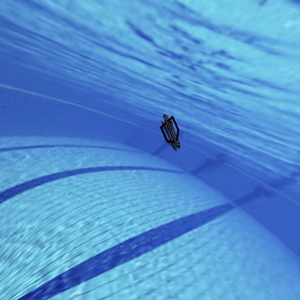submarine: (151, 103, 189, 159)
